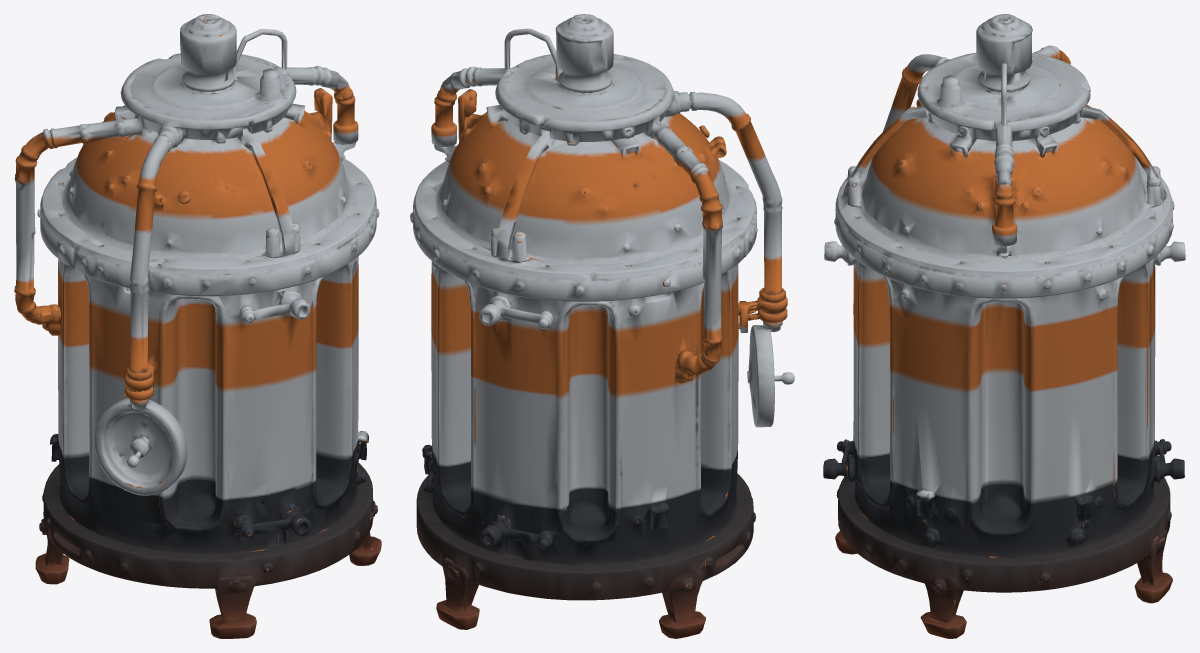
File: SM_Tripo_OxygenHarvester.fbx
The picture shows the model from 3 angles, left to right: view 1: azimuth 30°, elevation 25°; view 2: azimuth 150°, elevation 25°; view 3: azimuth 270°, elevation 25°; orthographic projection. The views are drawn at different scales.
Visible parts, largest first — view 1: SM_Tripo_OxygenHarvester; view 2: SM_Tripo_OxygenHarvester; view 3: SM_Tripo_OxygenHarvester.
Part boxes in pixels (x1=…): SM_Tripo_OxygenHarvester: x1=14, y1=14, x2=381, y2=638; SM_Tripo_OxygenHarvester: x1=410, y1=14, x2=794, y2=638; SM_Tripo_OxygenHarvester: x1=823, y1=14, x2=1185, y2=638.
Bounding box in the file's own units: 125 × 210 × 125.
Materials: 1 (1 with a texture image).
